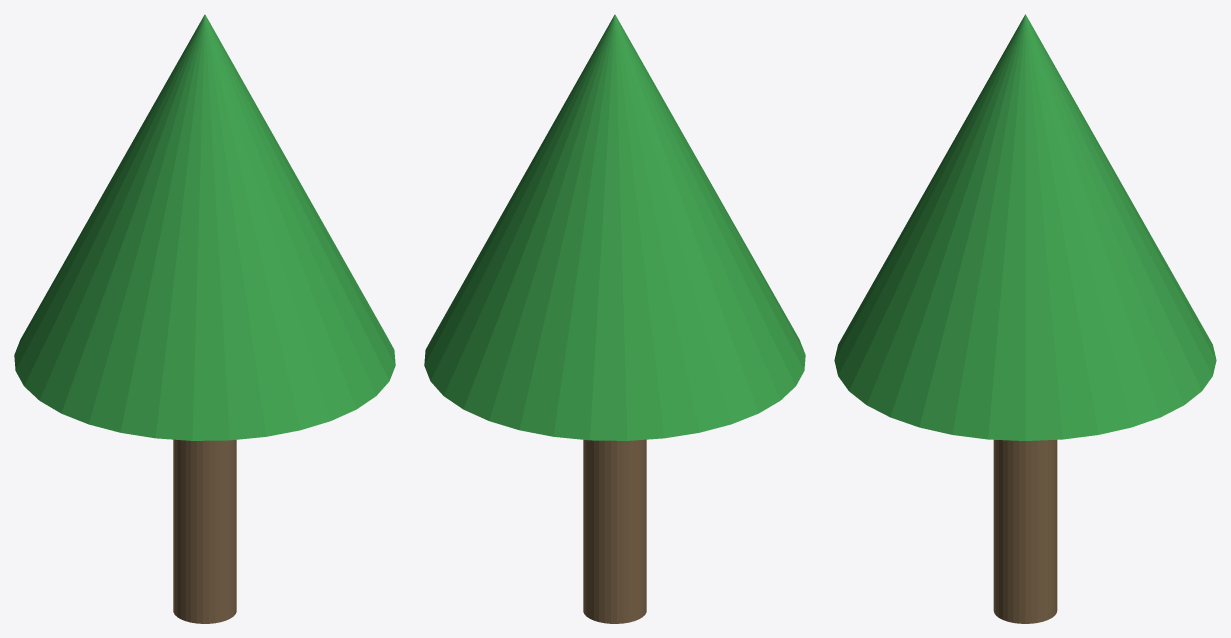
3 views of the same model, side by side, from view 1: azimuth 30°, elevation 25°; view 2: azimuth 150°, elevation 25°; view 3: azimuth 270°, elevation 25° (orthographic).
Parts seen in each view (by area): view 1: Tree_Foliage, Tree_Trunk; view 2: Tree_Foliage, Tree_Trunk; view 3: Tree_Foliage, Tree_Trunk.
Part boxes in pixels (<box>): Tree_Foliage: <box>14,14,395,440</box>; Tree_Trunk: <box>173,439,236,623</box>; Tree_Foliage: <box>424,14,805,440</box>; Tree_Trunk: <box>583,439,646,623</box>; Tree_Foliage: <box>834,14,1216,440</box>; Tree_Trunk: <box>993,440,1057,623</box>.
Bounding box in the file's own units: 1.8 × 3.1 × 1.8.
